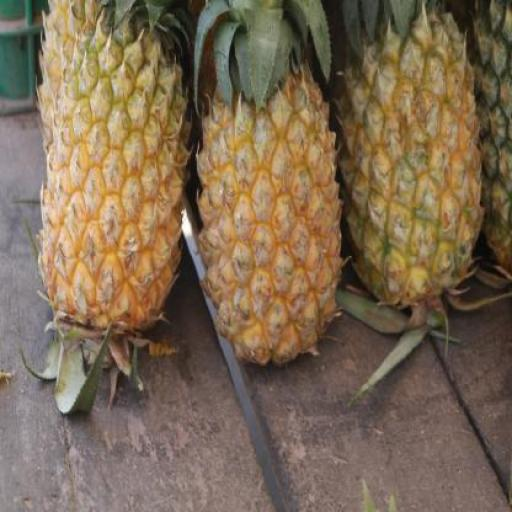------------------------------: (338, 15, 480, 307)
Pineapple - v8 v1: (40, 24, 184, 348), (194, 64, 344, 366)
